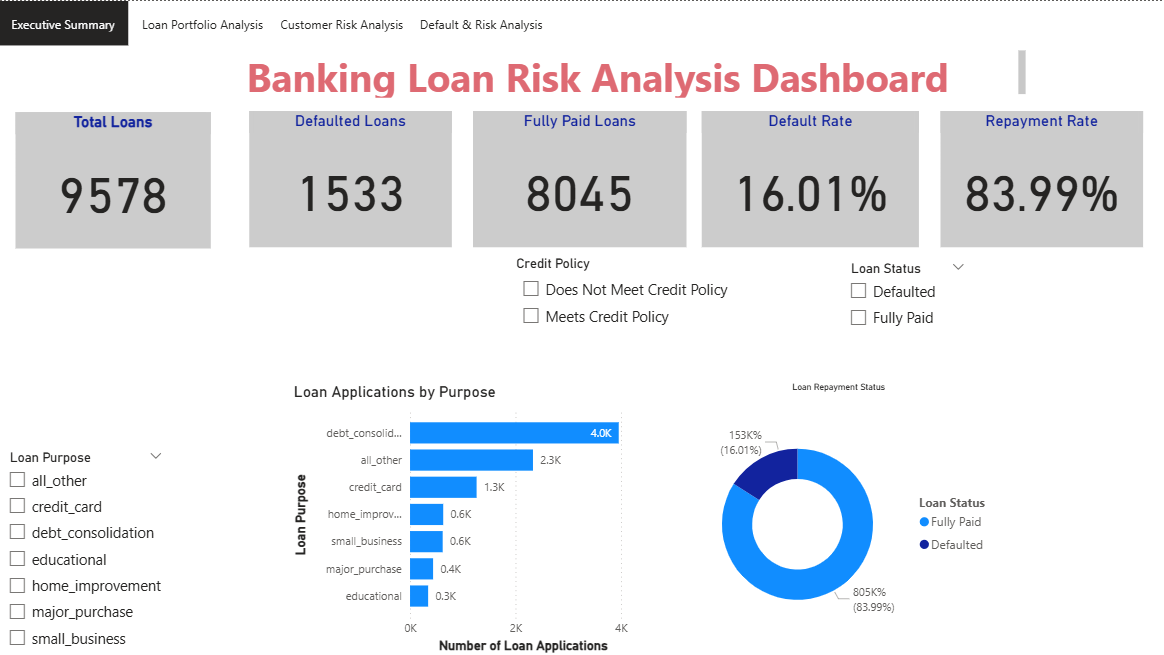

Layout of this report page (visuals, bound fields, positions):
{"tool":"powerbi","page":{"name":"Executive Summary","canvas":[1280,720],"ordinal":0},"visuals":[{"type":"textbox","box":[192.1,49.4,941.3,61.7],"z":0},{"type":"card","title":"Total Loans","fields":{"Values":["Mtable.Total Loan Applications"]},"box":[19.2,122.1,214.1,149.6],"z":1000},{"type":"card","title":"Defaulted","fields":{"Values":["Mtable.Defaulted Loans"]},"box":[275.8,120.8,222.3,149.6],"z":2000},{"type":"card","title":"Fully Paid Loans","fields":{"Values":["Mtable.Fully Paid Loans"]},"box":[521.4,120.8,234.6,149.6],"z":3000},{"type":"card","title":"Default Rate","fields":{"Values":["Mtable.Default Rate"]},"box":[772.6,120.8,238.8,149.6],"z":4000},{"type":"card","title":"Repayment Rate","fields":{"Values":["Mtable.Repayment Rate"]},"box":[1034.7,120.8,222.3,149.6],"z":5000},{"type":"slicer","fields":{"Values":["loan_data.purpose"]},"box":[0,487.1,192.1,233.3],"z":6000},{"type":"slicer","title":"Credit Policy","fields":{"Values":["loan_data.Credit Policy Status"]},"box":[564,279.9,256.6,138.6],"z":7000},{"type":"donutChart","title":"Loan Repayment Status","fields":{"Category":["loan_data.Loan Status"],"Y":["Mtable.Total Loan Applications"]},"box":[739.6,418.5,366.4,301.9],"z":8000},{"type":"clusteredBarChart","title":"Loan Applications by Purpose","fields":{"Category":["loan_data.purpose"],"Y":["Mtable.Total Loan Applications"]},"box":[319.7,418.5,393.8,301.9],"z":9000},{"type":"slicer","fields":{"Values":["loan_data.Loan Status"]},"box":[923.5,279.9,149.6,138.6],"z":10000},{"type":"pageNavigator","box":[0,0,605.1,49.4],"z":11000}]}

Visuals, with their boxes on the page's 1280x720 design canvas (x1, y1, x2, y2). These are canvas units, not pixel positions in the 1164x655 screenshot, which may show the page scaled, cropped or inside an application window:
textbox: rect(192, 49, 1133, 111)
"Total Loans" card: rect(19, 122, 233, 272)
"Defaulted" card: rect(276, 121, 498, 270)
"Fully Paid Loans" card: rect(521, 121, 756, 270)
"Default Rate" card: rect(773, 121, 1011, 270)
"Repayment Rate" card: rect(1035, 121, 1257, 270)
slicer - loan_data.purpose: rect(0, 487, 192, 720)
"Credit Policy" slicer: rect(564, 280, 821, 418)
"Loan Repayment Status" donutChart: rect(740, 418, 1106, 720)
"Loan Applications by Purpose" clusteredBarChart: rect(320, 418, 714, 720)
slicer - loan_data.Loan Status: rect(924, 280, 1073, 418)
pageNavigator: rect(0, 0, 605, 49)
